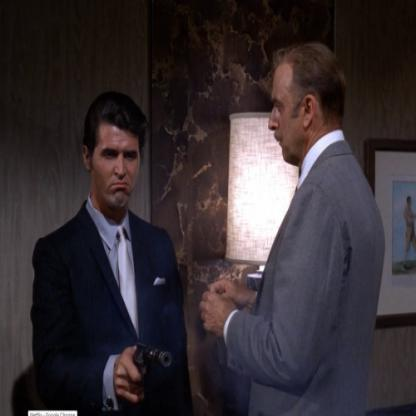Gun: (130, 336, 174, 413)
